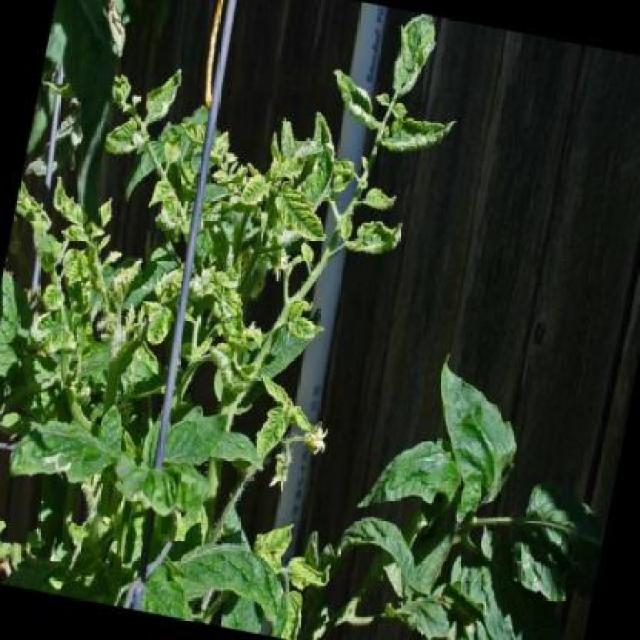Healthy Leaf: (1, 391, 133, 502), (141, 394, 236, 485), (196, 254, 268, 354), (374, 100, 468, 174), (337, 210, 417, 274), (262, 181, 334, 250), (245, 391, 305, 469), (47, 166, 101, 237), (142, 61, 189, 132), (29, 309, 86, 361), (283, 300, 337, 351), (232, 164, 279, 221), (266, 142, 315, 191), (136, 297, 178, 354), (57, 242, 102, 289), (101, 115, 144, 164), (360, 180, 405, 219), (40, 283, 74, 321)
